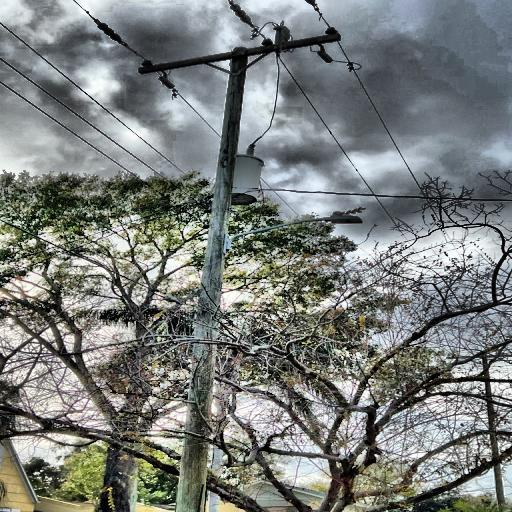pole: (154, 44, 253, 512)
transformer: (220, 150, 268, 204)
